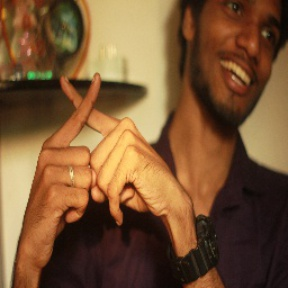X: (31, 60, 139, 174)
